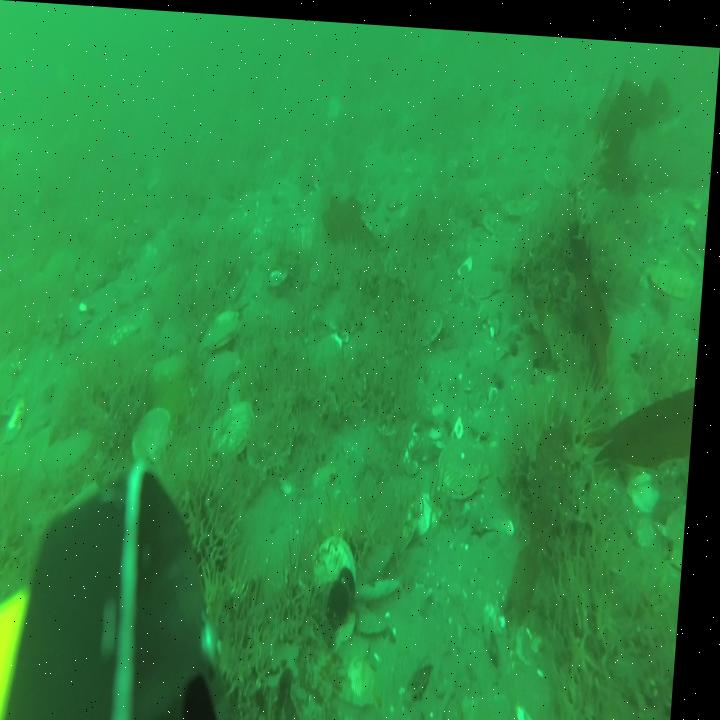scallop: (444, 427, 495, 503), (321, 525, 367, 594), (219, 392, 261, 459), (136, 403, 182, 463), (653, 249, 700, 299), (205, 338, 247, 393), (467, 255, 512, 301), (349, 651, 387, 703), (55, 424, 97, 470), (207, 302, 241, 347), (421, 299, 452, 346), (159, 348, 196, 387)
